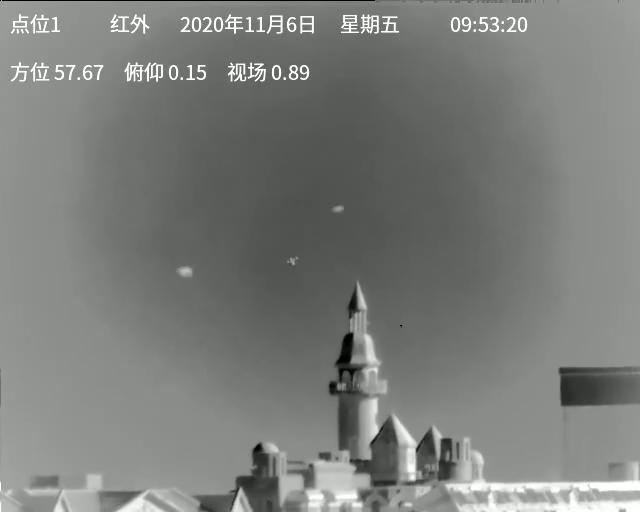uav: (286, 256, 300, 267)
